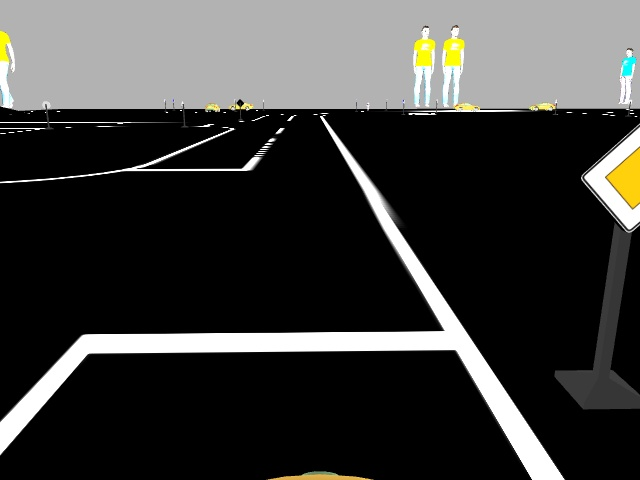Priority: (584, 125, 639, 229)
